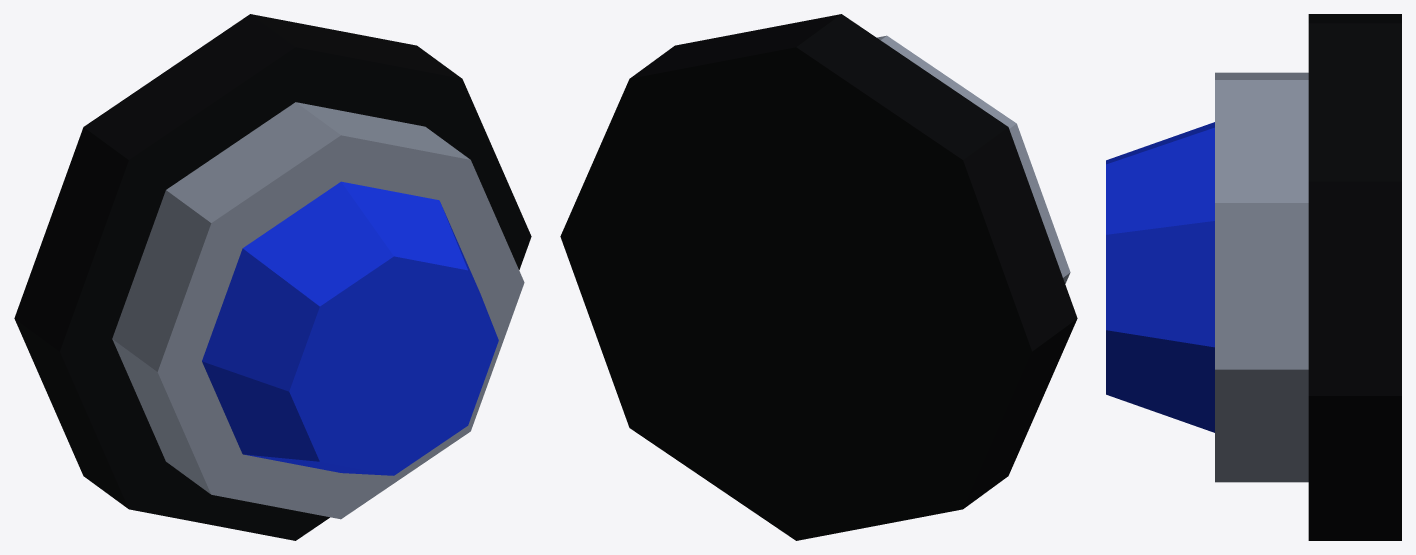
File: SM_Indicator_Light_Blue.glb
The picture shows the model from 3 angles, left to right: view 1: azimuth 30°, elevation 25°; view 2: azimuth 150°, elevation 25°; view 3: azimuth 270°, elevation 25°; orthographic projection. The views are drawn at different scales.
Visible parts, largest first — view 1: SM_Indicator_Light_Blue; view 2: SM_Indicator_Light_Blue; view 3: SM_Indicator_Light_Blue.
Boxes of the visible parts, <box> form: SM_Indicator_Light_Blue: <box>14,14,531,540</box>; SM_Indicator_Light_Blue: <box>560,14,1077,540</box>; SM_Indicator_Light_Blue: <box>1106,14,1401,540</box>.
Size of the model in its own units: 0.18 by 0.18 by 0.095.
